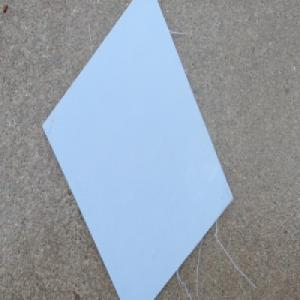PaintChip: (41, 0, 233, 300)
